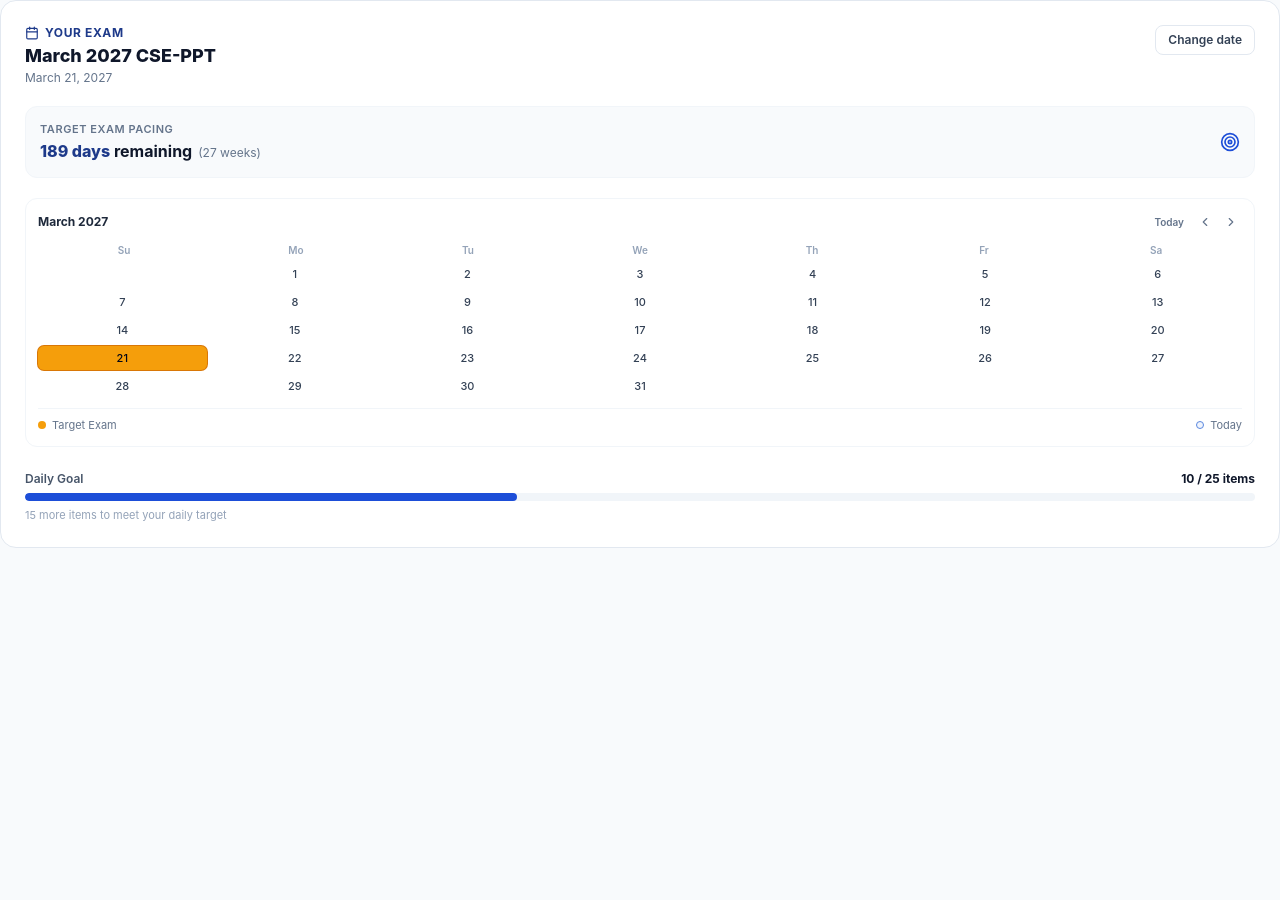
Test: ExamCalendarCard Component › opens accessible inline editor with htmlFor and id bindings (D03)
Click the button "Change date": (1205, 40) left=1155, top=25, right=1255, bottom=55
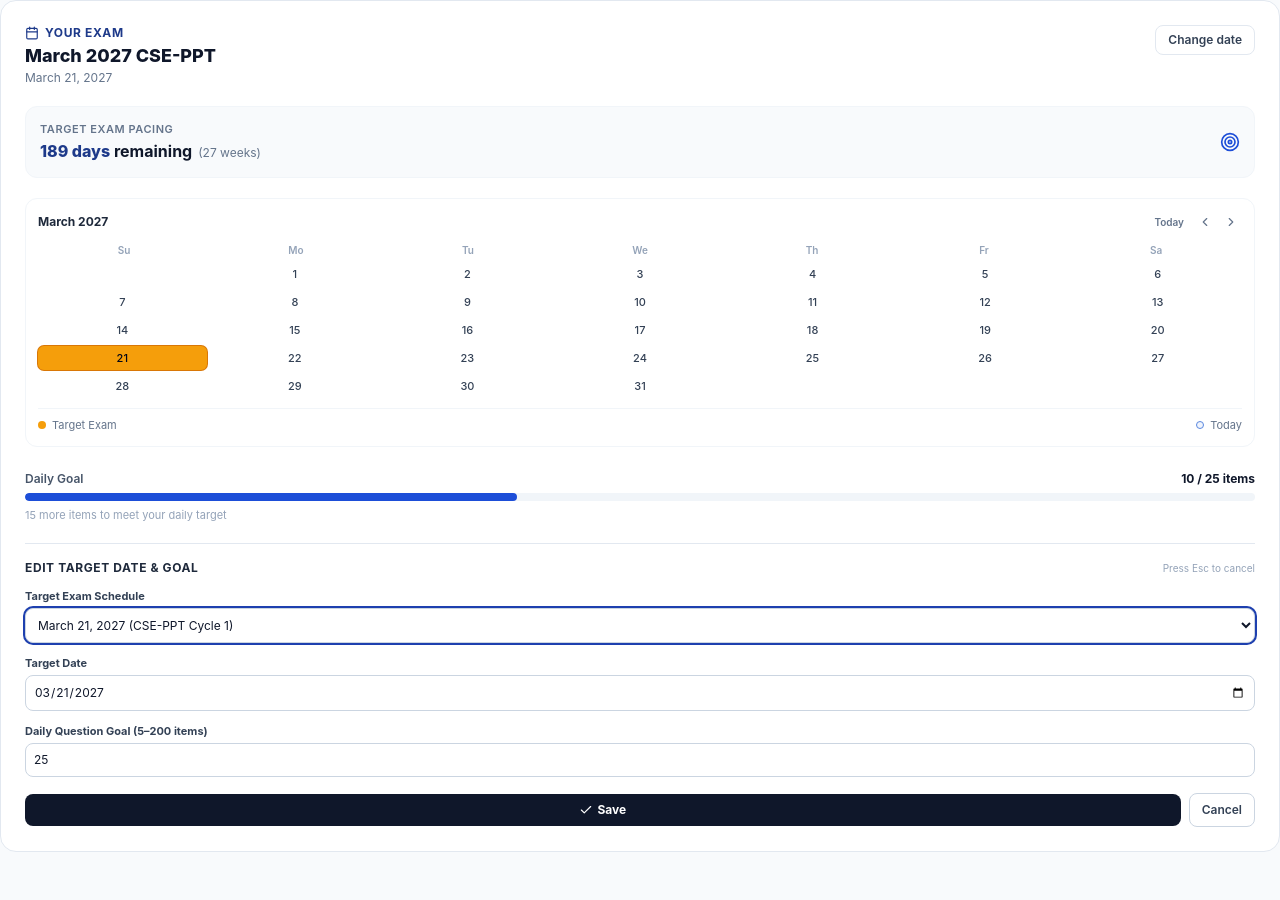
Expected: the dropdown labelled "Target Exam Schedule" is shown, left=25, top=608, right=1255, bottom=643
Expected: the date field labelled "Target Date" is shown, left=25, top=675, right=1255, bottom=711
Expected: the number field labelled "Daily Question Goal (5–200 items)" is shown, left=25, top=743, right=1255, bottom=777
